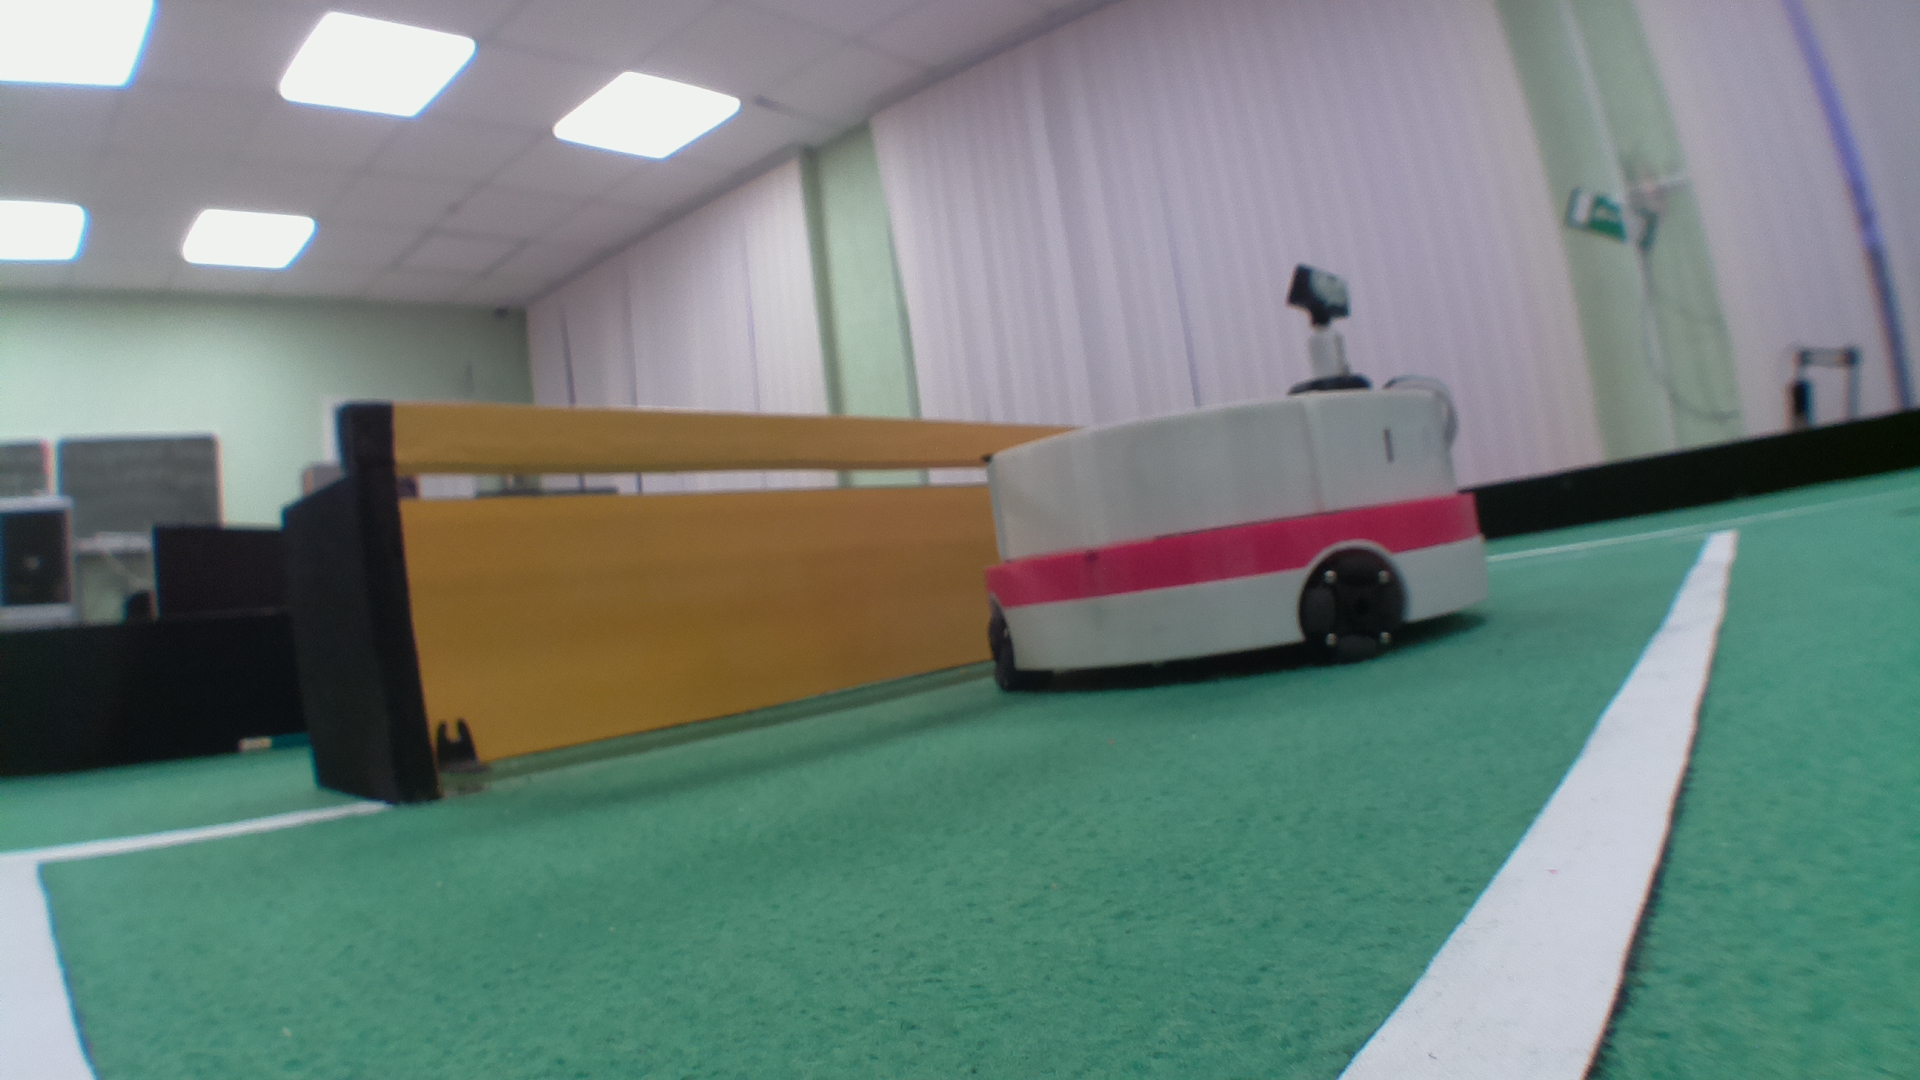YellowGoal: (386, 400, 1022, 721)
